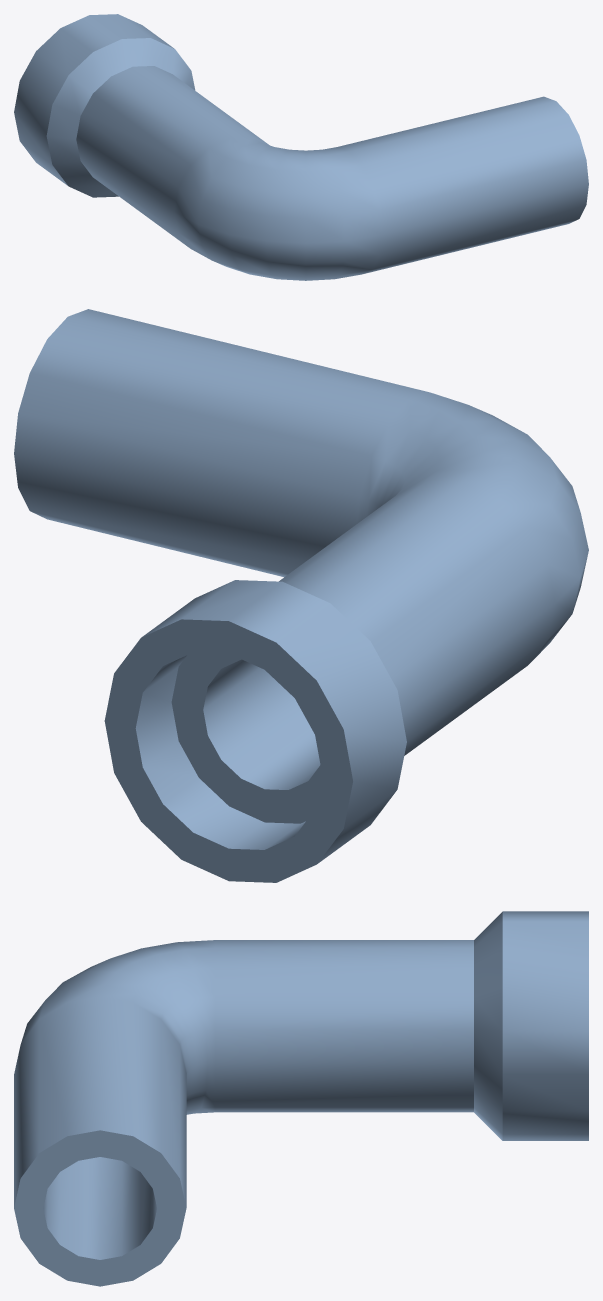
The model's file is BlueMetalDecorationSmallElbowConnector1.fbx.
3 renders of one model, top to bottom at view 1: azimuth 30°, elevation 25°; view 2: azimuth 150°, elevation 25°; view 3: azimuth 270°, elevation 25°, orthographic. The views are drawn at different scales.
Visible parts, largest first — view 1: BlueMetalDecorationSmallElbowConnector1; view 2: BlueMetalDecorationSmallElbowConnector1; view 3: BlueMetalDecorationSmallElbowConnector1.
Boxes of the visible parts, x1,y1,x2,y2 form: BlueMetalDecorationSmallElbowConnector1: [14, 14, 588, 280]; BlueMetalDecorationSmallElbowConnector1: [14, 309, 588, 882]; BlueMetalDecorationSmallElbowConnector1: [14, 911, 588, 1286].
Bounding box in the file's own units: 190 × 80 × 200.
